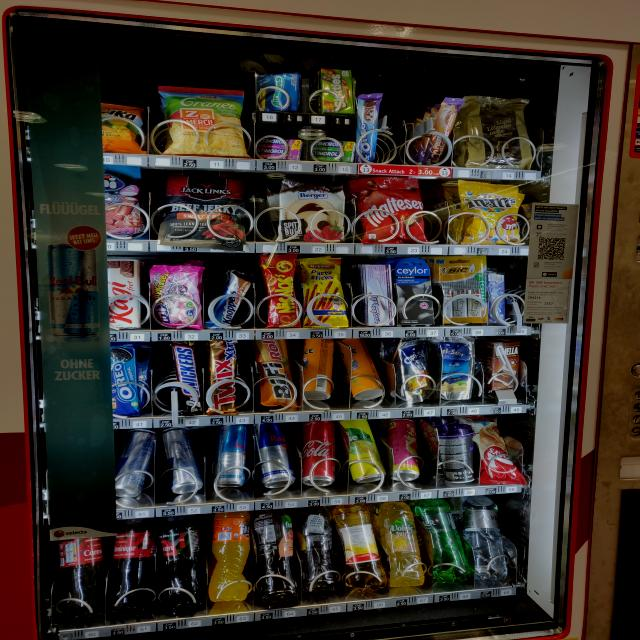7days_croissantschoko_packung_80_1_0000000000003: (476, 419, 522, 481)
airwaves_menthoneucalyptus_riegel_14_1_50173167: (258, 69, 301, 112)
bifi_roll__50__4251097402635: (257, 339, 302, 412)
c-swiss_dosenabisicetea__33__9120025930135: (339, 338, 386, 403), (299, 339, 337, 400)
caferoyal_classicmacchiato__33__7617014164487: (439, 418, 480, 485)
caprisun_multivitamin__20__4000177605004: (391, 339, 434, 405), (438, 334, 477, 399)
coke__dose_33__54491472: (299, 420, 338, 488)
coke__flasche_50__54491472: (107, 518, 160, 614), (52, 525, 104, 620)
coke_zero_flasche_50__5449000131836: (158, 514, 208, 611)
comella_schokodrink__33__7613100037253: (486, 337, 524, 393)
fanta___50__40822938: (206, 512, 256, 605)
fini_galaxymix_packung_100_1_8410525150364: (104, 167, 144, 237)
fini_jellykisses_packung_80_1_8410525116704: (148, 260, 208, 330)
fuse_lemon__50__5449000235947: (300, 507, 340, 593)
fuse_lemon_dose_33__5449000235947: (347, 418, 386, 486)
fuse_peach__50__5449000236623: (257, 511, 299, 606)
jacklinks_beefjerkyorginal__25__4047751730219: (159, 170, 251, 248)
jlbrichard_gauffrechoko__90__5410495002079: (458, 96, 530, 169)
kagi___50__7610046000259: (100, 257, 142, 330)
knoppers_riegel____4035800488808: (212, 271, 255, 332)
lorenz_nicnacs__40__4018077798818: (262, 252, 299, 329)
malburner_partysticks__40__7610200279682: (302, 255, 348, 330)
maltesers___100__5000159023061: (350, 177, 432, 244)
mnms_gelb__45__40111445: (457, 180, 524, 244)
oreo___66__84100733: (113, 343, 149, 415)
ramseier_schorle__50__7610057012456: (336, 504, 383, 590)
redbull___33__90162909: (111, 432, 159, 502), (257, 423, 299, 488), (166, 428, 201, 495)
redbull_light__33__90162800: (219, 424, 252, 491)
skittles_sour_riegel_51_1_0000000000004: (316, 68, 360, 116)
snickers___50__5000159461122: (176, 340, 202, 413)
stimorol_spearmint_riegel_14_1_0000000000005: (310, 142, 357, 160)
stimorol_wildcherry_riegel_14_1_57060330: (260, 135, 306, 159)
tiki_himbeer_brause__50__00000000009342: (384, 419, 422, 484)
twix___50__5000159459228: (201, 338, 246, 413)
valser_classic__50__76404160: (427, 499, 469, 582)
valser_still__50__7610335002575: (471, 497, 508, 587)
volvic_pinapple__50__305764335648: (382, 502, 422, 588)
zweifel_graneochilli__100__7610095184009: (154, 86, 248, 157)
zweifel_paprika__90__7610095013002: (81, 99, 150, 154)
